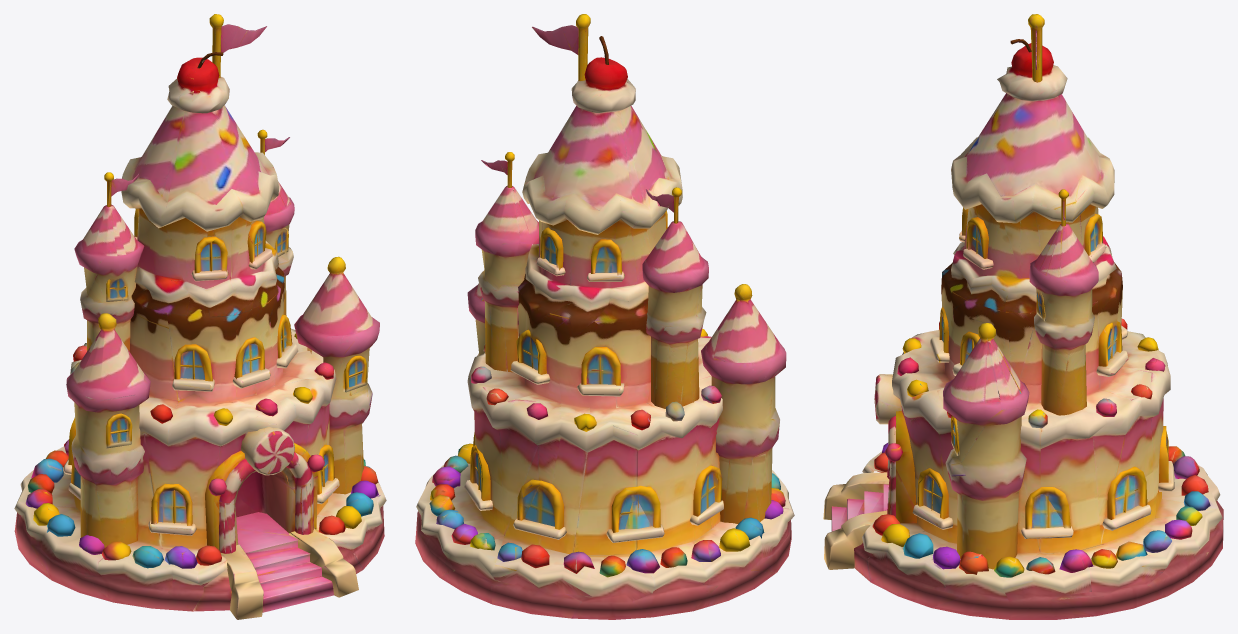
File: castle_main_tower.glb
The picture shows the model from 3 angles, left to right: view 1: azimuth 30°, elevation 25°; view 2: azimuth 150°, elevation 25°; view 3: azimuth 270°, elevation 25°; orthographic projection. The views are drawn at different scales.
Size of what is drawn, in the model's own units: 0.65 by 1 by 0.6787.
Materials: 1 (1 with a texture image).
